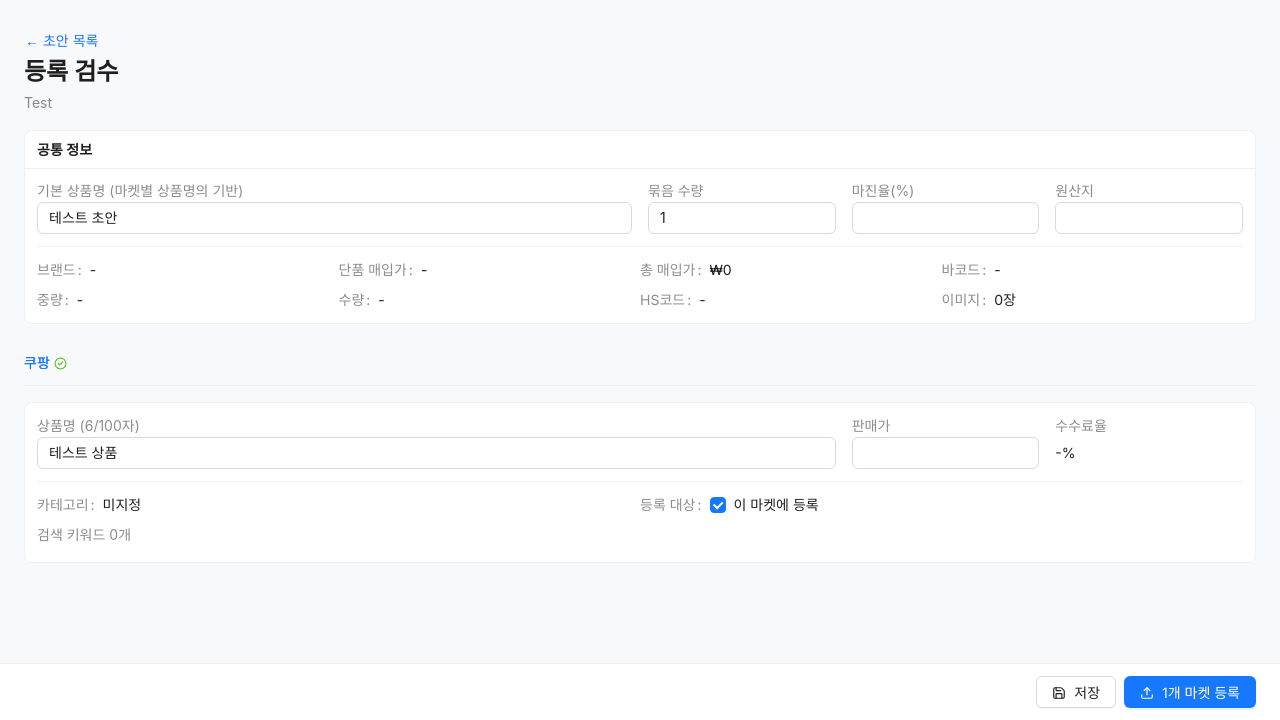
Scenario: 추천상품 초안 등록 대상 › 등록 응답을 받으면 결과 화면에서 편집과 중복 등록 동작을 제거한다
Expected: the field showing "테스트 초안" below "기본 상품명 (마켓별 상품명의 기반)" is shown, [37,202,632,234]
Click the button "1개 마켓 등록".
click(1190, 692)  # box [1124,676,1256,708]
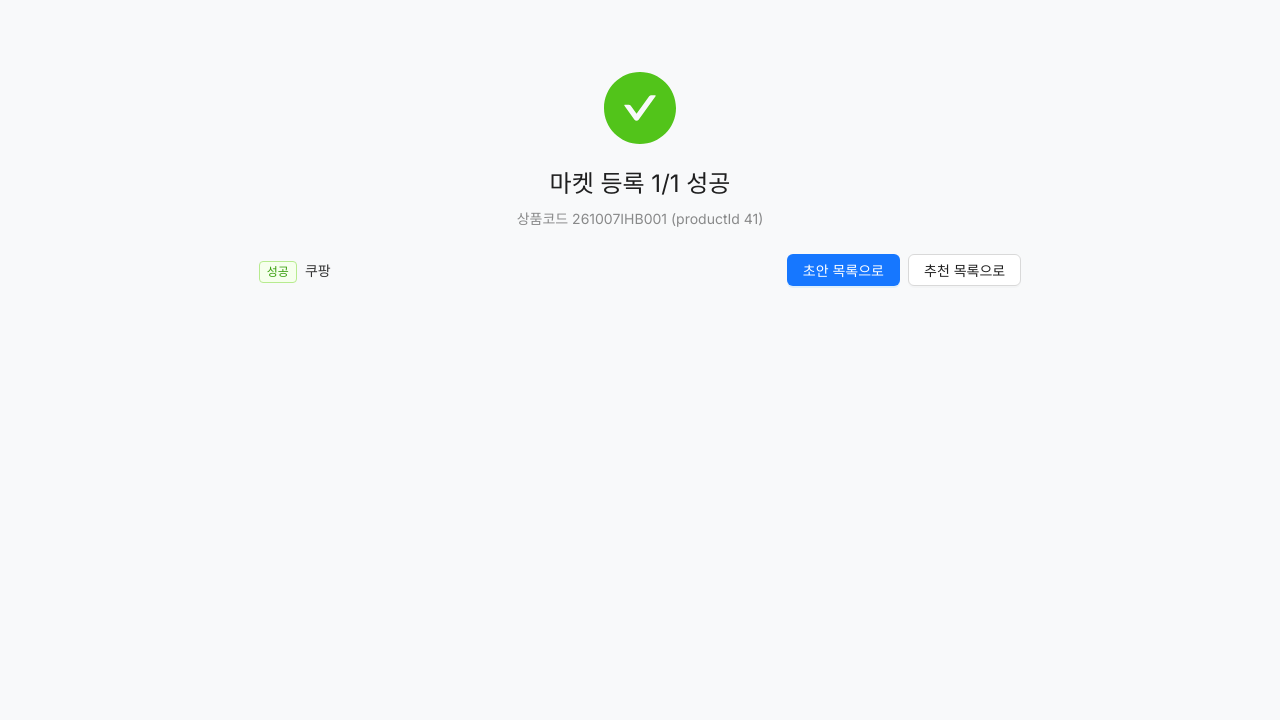
Expected: the field showing "테스트 초안" is not shown
Now the text "마켓 등록 1/1 성공" is shown, box [550,169,730,198]
Now the button "1개 마켓 등록" is gone
